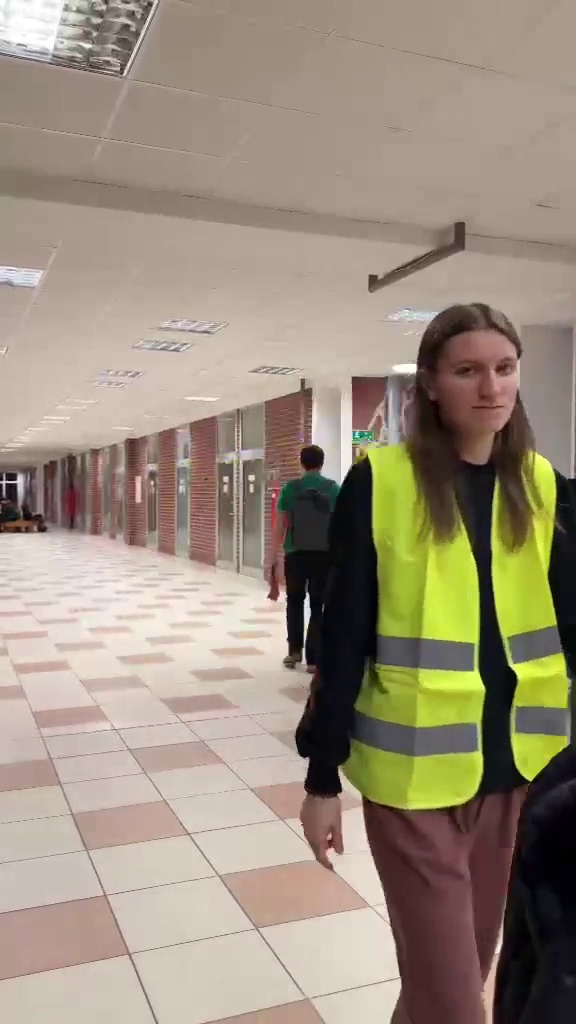no vest: (271, 437, 342, 657)
vest: (346, 299, 569, 1001)
